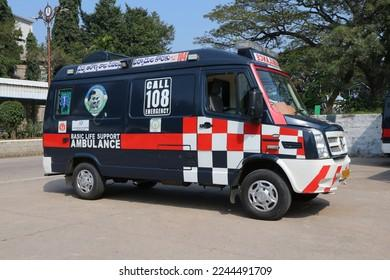ER: (42, 46, 352, 222)
